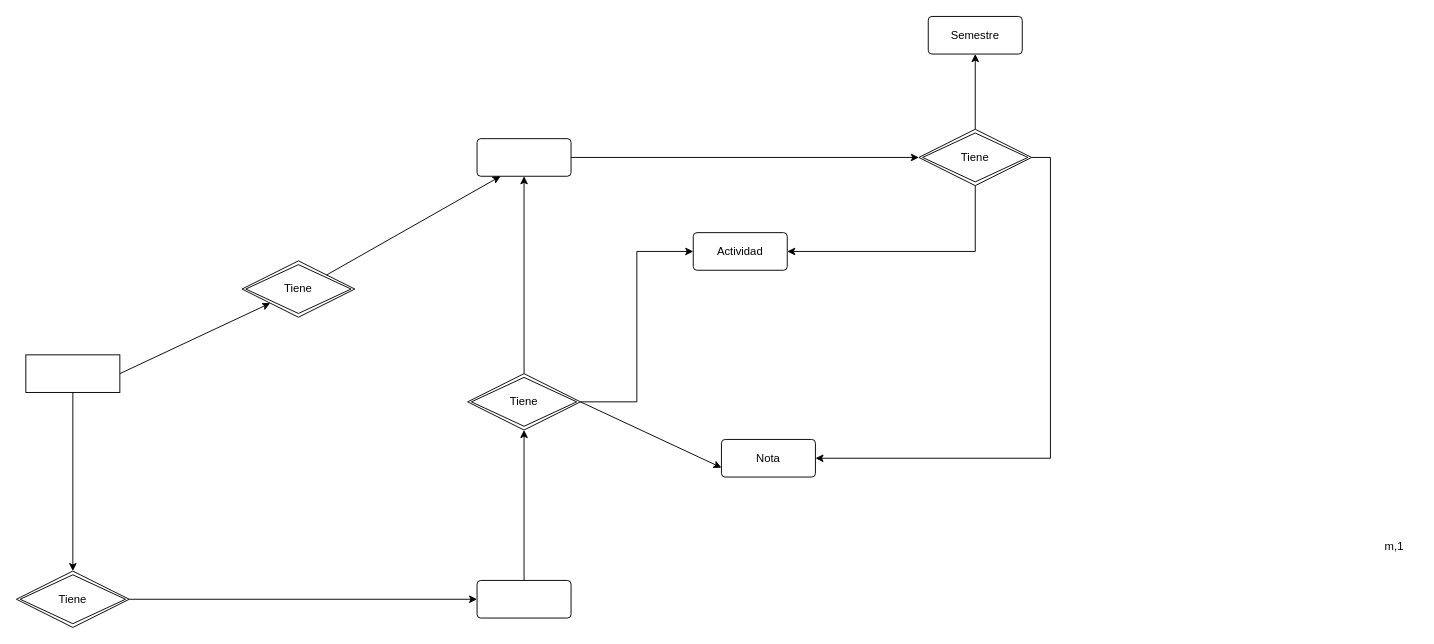
Image size: 1434x644. Some labels were removed from this diagram. Here are the shapes that lost their labels. From the top down, the centre of each, then its label:
point (523, 157): Materia
point (72, 373): Profesor
point (523, 599): Estudiante
